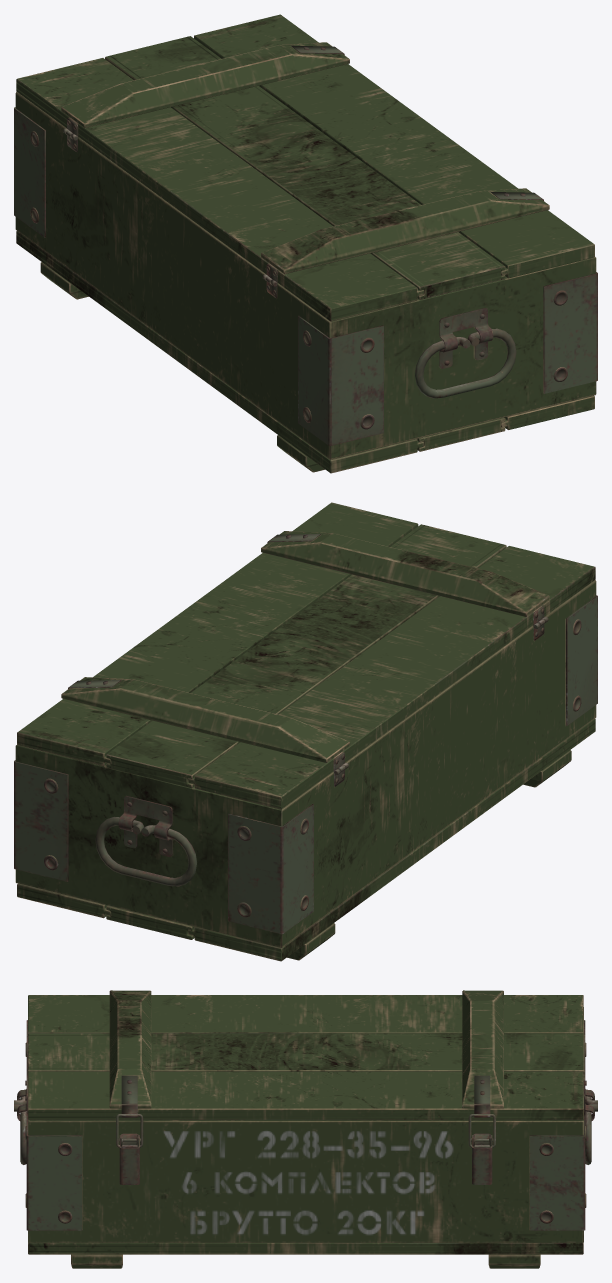
File: millitary_box.glb
3 renders of one model, top to bottom at view 1: azimuth 30°, elevation 25°; view 2: azimuth 150°, elevation 25°; view 3: azimuth 270°, elevation 25°, orthographic. The views are drawn at different scales.
Parts seen in each view (by area): view 1: box_final_2; view 2: box_final_2; view 3: box_final_2.
Boxes of the visible parts, x1,y1,x2,y2 form: box_final_2: (14,14,597,473); box_final_2: (14,502,597,961); box_final_2: (14,990,597,1268).
Size of the model in its own units: 2.15 by 1.46 by 4.31.
1 material, 1 textured.
